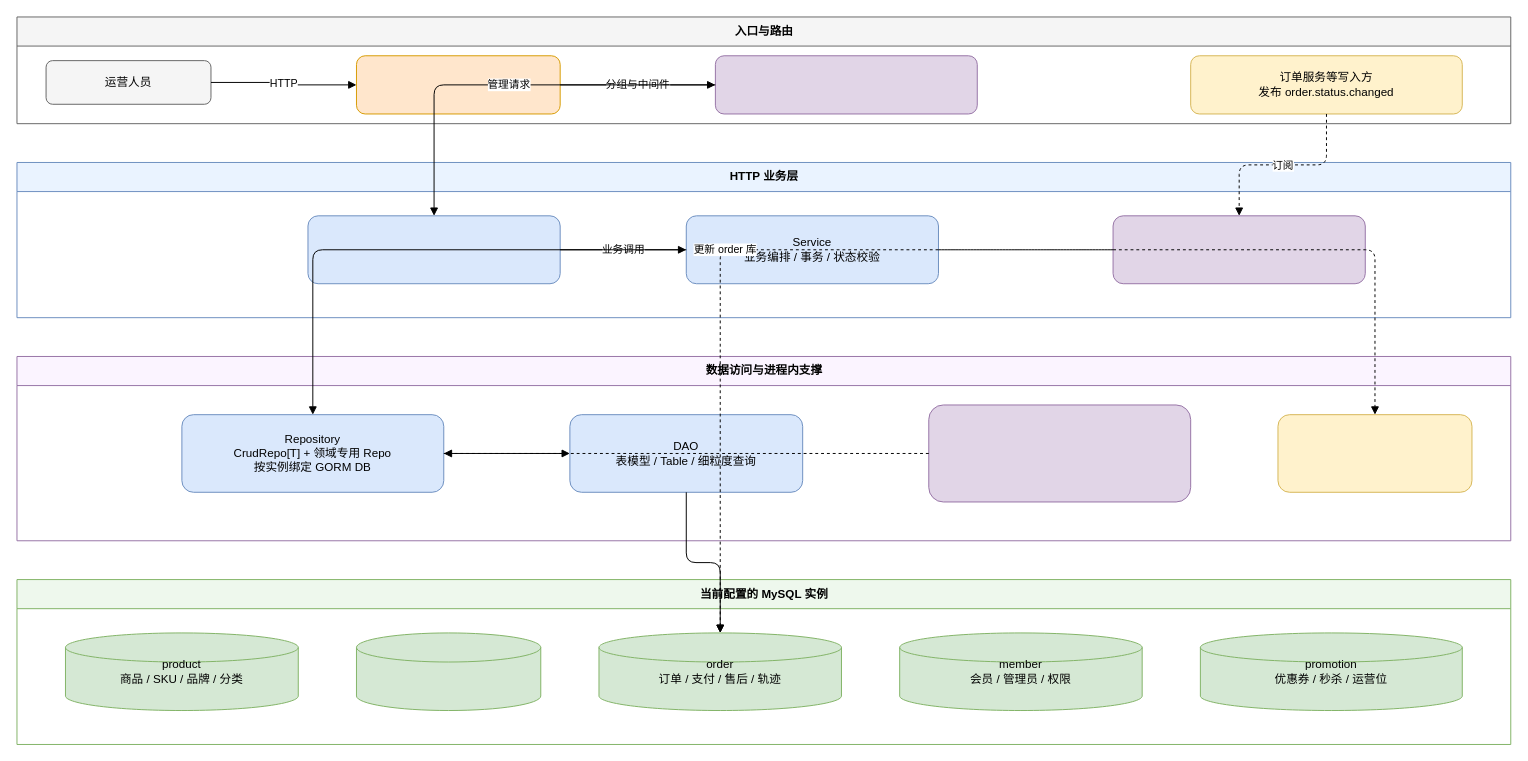
Image size: 1528x761. Some labels were removed from this diagram. Here are the shapes that lost their labels. From the top down, the centre of each, then its label:
(458,84): Gin Router /admin 管理面 /api 用户侧
(845,84): Middleware Context / AccessLog / CheckLogin
(433,249): Controller 绑定参数 / 调用 Service / 统一响应
(1238,249): OrderStatus Consumer 校验 + 版本单调投影
(1059,453): Scheduler 秒杀半点填充 物流启动即执行 + 5 分钟
(1374,453): DeliveryProvider / Redis / OSS / MinIO
(448,671): cart 购物车
